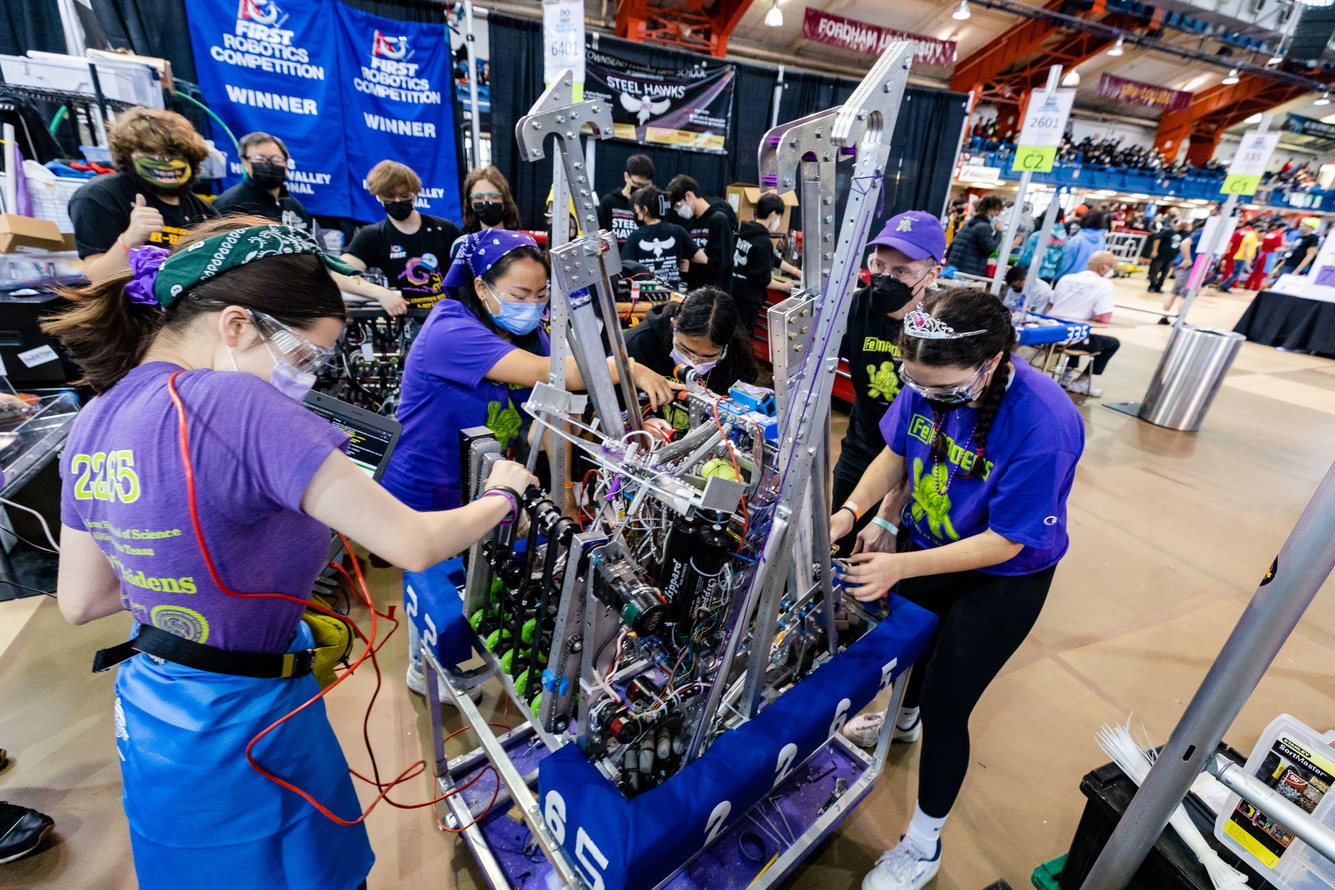robot: (401, 31, 945, 890), (966, 173, 1101, 355)
